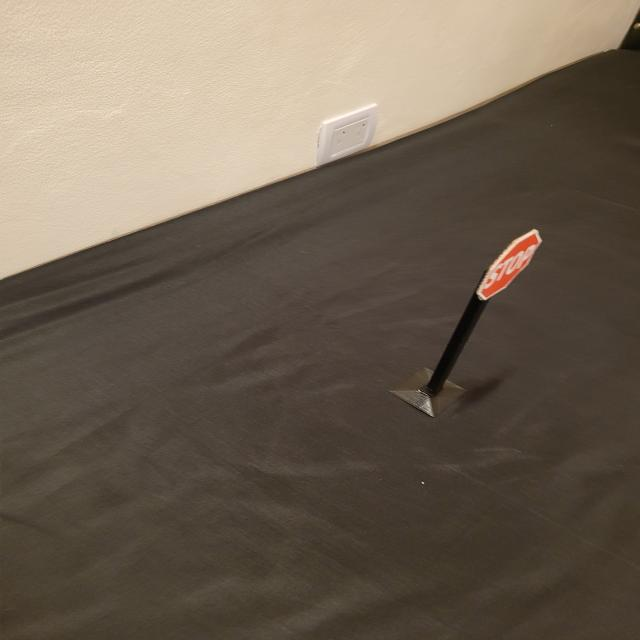stop: (477, 229, 542, 302)
